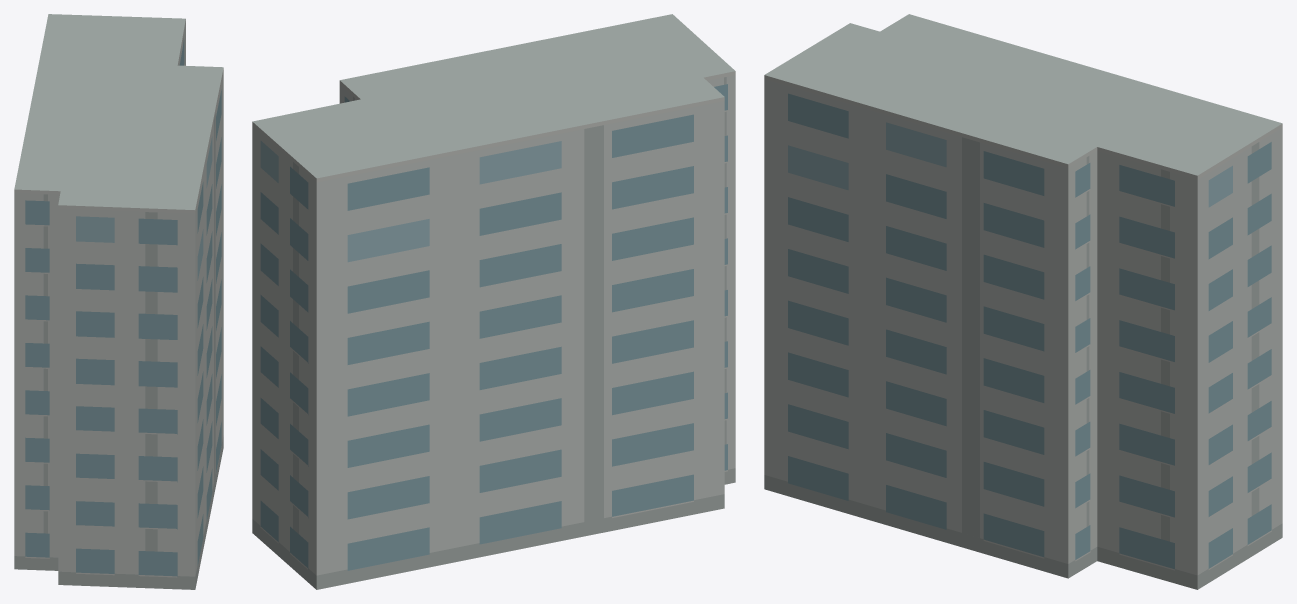
File: survey-upis-32599859.glb
The picture shows the model from 3 angles, left to right: view 1: azimuth 30°, elevation 25°; view 2: azimuth 150°, elevation 25°; view 3: azimuth 270°, elevation 25°; orthographic projection. The views are drawn at different scales.
Parts seen in each view (by area): view 1: survey-upis-32599859.tmp; view 2: survey-upis-32599859.tmp; view 3: survey-upis-32599859.tmp.
Part boxes in pixels (x1,y1,x2,y2): survey-upis-32599859.tmp: [14, 14, 223, 589]; survey-upis-32599859.tmp: [252, 14, 735, 589]; survey-upis-32599859.tmp: [764, 14, 1282, 589].
Size of the model in its own units: 20.98 by 25.05 by 28.43.
